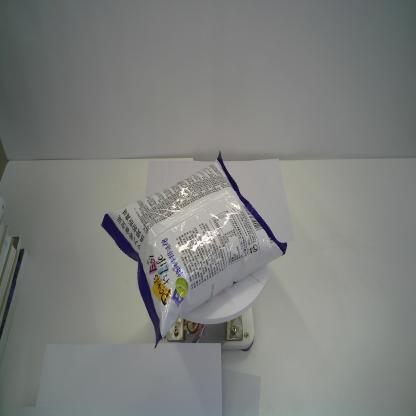Puffed Food: (100, 150, 289, 350)
